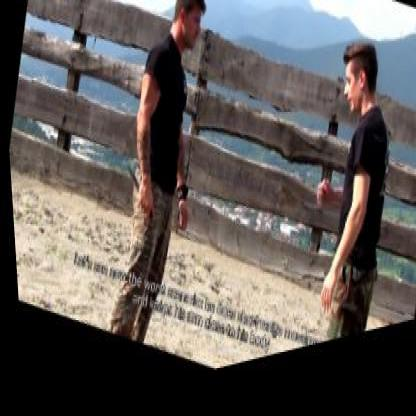knife: (113, 160, 158, 236)
